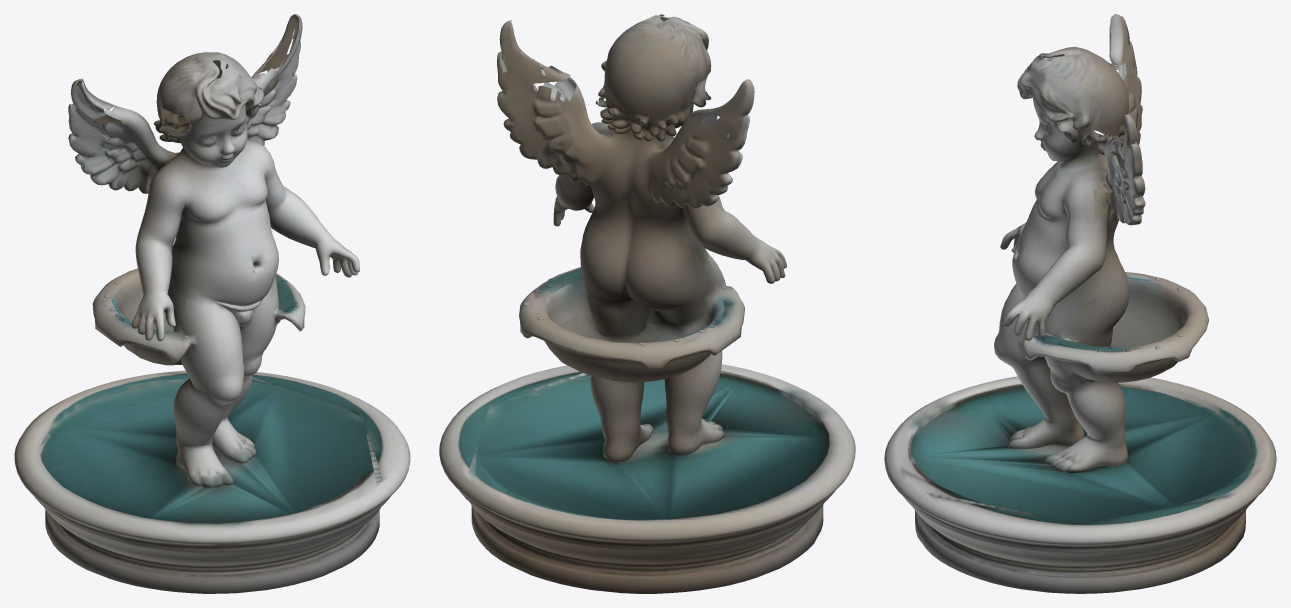
The model's file is Outdoor__cherub_fountain_8d21b49f_v2.cluster.glb.
3 renders of one model, left to right at view 1: azimuth 30°, elevation 25°; view 2: azimuth 150°, elevation 25°; view 3: azimuth 270°, elevation 25°, orthographic. The views are drawn at different scales.
Parts seen in each view (by area): view 1: mesh_input; view 2: mesh_input; view 3: mesh_input.
Boxes of the visible parts, x1,y1,x2,y2 form: mesh_input: (14,14,410,593); mesh_input: (439,14,855,593); mesh_input: (884,14,1276,593).
Size of the model in its own units: 1.44 by 1.9 by 1.44.
1 material, 1 textured.
